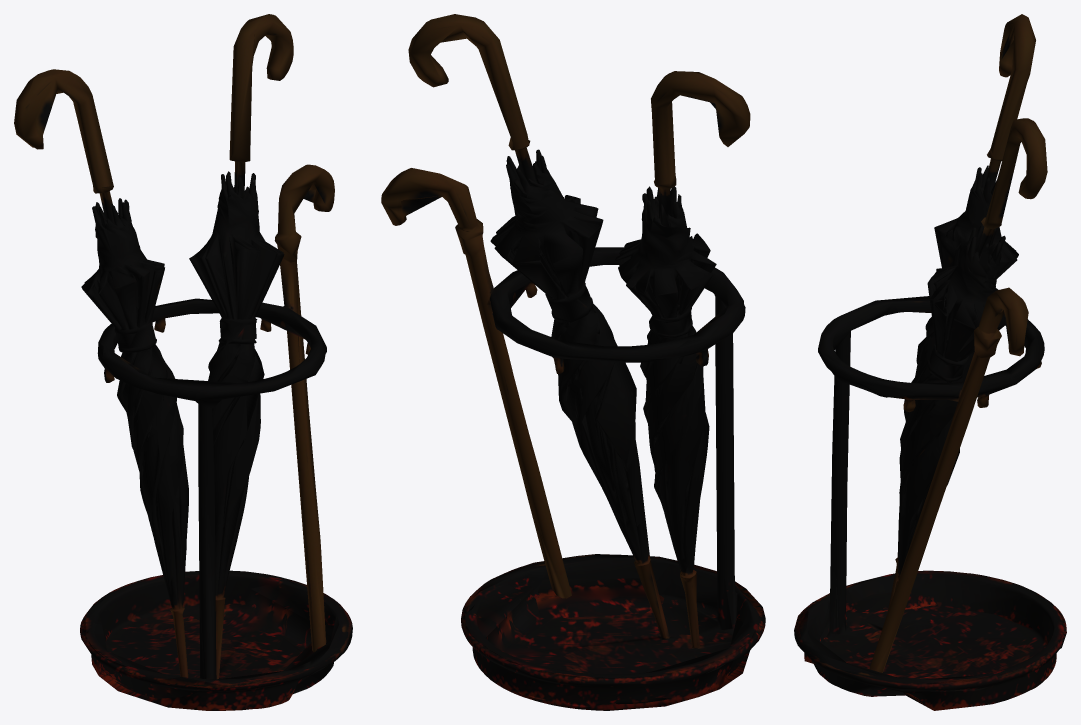
File: lhi_umbrella_stand.glb
3 renders of one model, left to right at view 1: azimuth 30°, elevation 25°; view 2: azimuth 150°, elevation 25°; view 3: azimuth 270°, elevation 25°, orthographic. The views are drawn at different scales.
Parts seen in each view (by area): view 1: material; view 2: material; view 3: material.
Boxes of the visible parts, x1,y1,x2,y2 form: material: (14, 14, 352, 710); material: (381, 14, 765, 710); material: (794, 14, 1066, 710).
Size of the model in its own units: 0.6047 by 1.05 by 0.4445.
Materials: 1 (1 with a texture image).
